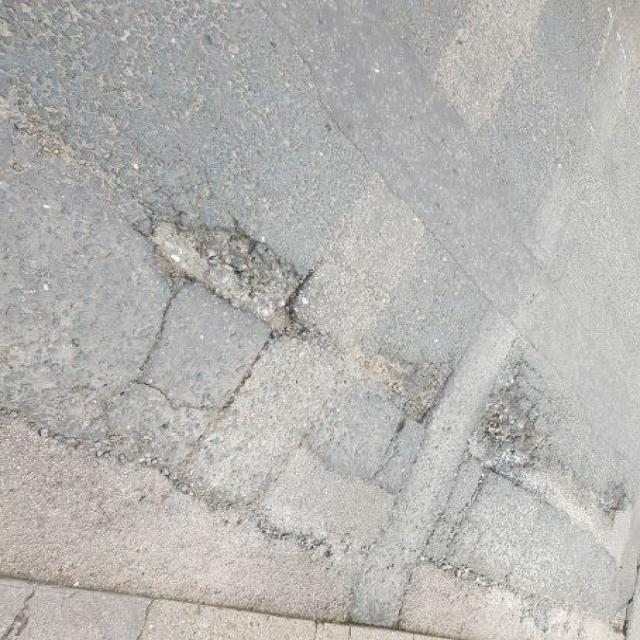Pothole: (135, 204, 314, 342), (336, 341, 451, 429), (473, 369, 555, 472), (588, 476, 633, 521), (604, 593, 640, 638)
